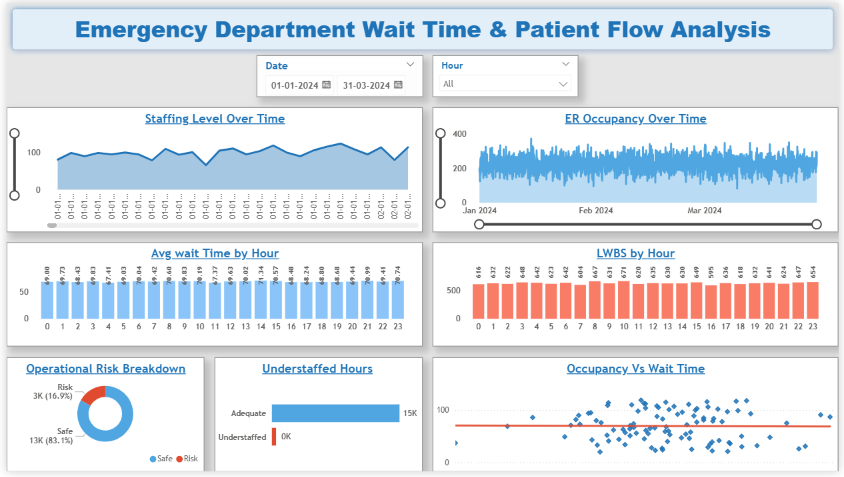

What the dashboard file says about the page in this screenshot:
{"tool":"powerbi","page":{"name":"Operational Performance (Staffing & Occupancy)","canvas":[1280,720],"ordinal":2},"visuals":[{"type":"shape","box":[0,0,1280,80],"z":0},{"type":"areaChart","title":"Staffing Level Over Time","fields":{"Category":["er_hourly_metrics.datetime_hour.Variation.Date Hierarchy.Year"],"Y":["Measures Table 3.Staff Count"]},"box":[0,160,640,192],"z":1000},{"type":"areaChart","title":"ER Occupancy Over Time","fields":{"Y":["Measures Table 3.Total Occupancy"],"Category":["er_hourly_metrics.datetime_hour.Variation.Date Hierarchy.Month"]},"box":[656,160,624,192],"z":2000},{"type":"clusteredColumnChart","title":"Avg wait Time by Hour","fields":{"Y":["Avg(er_hourly_metrics.avg_wait_time_last_hour)"],"Category":["er_hourly_metrics.Hour"]},"box":[0,368,640,160],"z":3000},{"type":"clusteredColumnChart","title":"LWBS by Hour","fields":{"Y":["Sum(er_hourly_metrics.patients_left_without_being_seen_last_hour)"],"Category":["er_hourly_metrics.Hour"]},"box":[656,368,624,160],"z":4000},{"type":"donutChart","title":"Operational Risk Breakdown","fields":{"Category":["er_hourly_metrics.Operational Risk"],"Y":["Measures Table 3.Operational Risk Hours"]},"box":[0,544,304,176],"z":5000},{"type":"clusteredBarChart","title":"Understaffed Hours","fields":{"Category":["er_hourly_metrics.Understaffed Label"],"Y":["Measures Table 3.Hour Count"]},"box":[320,544,320,176],"z":6000},{"type":"scatterChart","title":"Occupancy Vs Wait Time","fields":{"X":["Avg(er_hourly_metrics.er_occupancy)"],"Y":["er_hourly_metrics.avg_wait_time_last_hour"]},"box":[656,544,624,176],"z":7000},{"type":"actionButton","box":[0,0,100,40],"z":8000},{"type":"slicer","title":"Date","fields":{"Values":["Calendar.Date"]},"box":[384,80,256,64],"z":9000},{"type":"slicer","fields":{"Values":["er_hourly_metrics.Hour"]},"box":[656,80,224,64],"z":10000}]}

Visuals, with their boxes in screenshot pixels (x1, y1, x2, y2), scaled from the page's 1280x720 canvas onto the 844x477 screenshot:
shape: [x1=0, y1=0, x2=843, y2=53]
"Staffing Level Over Time" areaChart: [x1=0, y1=106, x2=422, y2=233]
"ER Occupancy Over Time" areaChart: [x1=433, y1=106, x2=843, y2=233]
"Avg wait Time by Hour" clusteredColumnChart: [x1=0, y1=244, x2=422, y2=350]
"LWBS by Hour" clusteredColumnChart: [x1=433, y1=244, x2=843, y2=350]
"Operational Risk Breakdown" donutChart: [x1=0, y1=360, x2=200, y2=476]
"Understaffed Hours" clusteredBarChart: [x1=211, y1=360, x2=422, y2=476]
"Occupancy Vs Wait Time" scatterChart: [x1=433, y1=360, x2=843, y2=476]
actionButton: [x1=0, y1=0, x2=66, y2=26]
"Date" slicer: [x1=253, y1=53, x2=422, y2=95]
slicer - er_hourly_metrics.Hour: [x1=433, y1=53, x2=580, y2=95]
